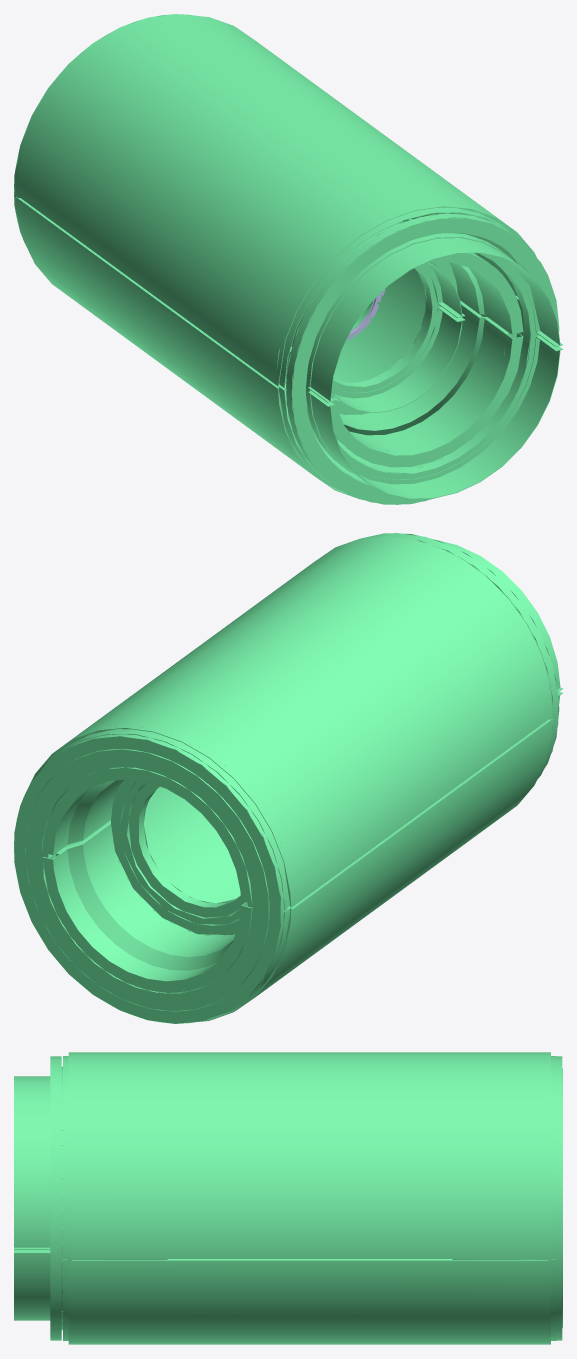
The model's file is its.glb.
3 views of the same model, one above another, from view 1: azimuth 30°, elevation 25°; view 2: azimuth 150°, elevation 25°; view 3: azimuth 270°, elevation 25° (orthographic). The views are drawn at different scales.
Visible parts, largest first — view 1: OBCYSS12_1.001, OBCYSS12_2.001, OBCYSS13_1.001, OBConeSideA_2.001, OBEndWheelAOuterRing6_1.001, OBConeTray1_1.001, OBConeTray1_2.001, OBCYSS14_2.001, Mesh_0, OBConeTray0_1.001, OBConeSideA_1.001, OBEndWheelAOuterRing5_1.001 (+7 smaller); view 2: OBCYSS12_1.001, Mesh_0, OBCYSS12_2.001, OBConeSideC_2.001, OBCYSS13_1.001, OBCYSS14_2.001, OBConeSideC_1.001, OBCYSS14_1.001, OBEndWheelAUpperRing6_1.001, OBEndWheelCUpperRing6_1.001, OBConeTray1_2.001, OBCYSS13_2.001 (+1 smaller); view 3: OBCYSS12_1.001, OBCYSS12_2.001, OBCYSS13_2.001, OBCYSS13_1.001, OBConeTray1_2.001, OBEndWheelAUpperRing6_1.001, OBConeTray1_1.001, OBCYSS14_1.001, OBCYSS14_2.001, OBEndWheelCUpperRing6_1.001, OBCYSS20_3.001, Mesh_0.
Boxes of the visible parts, <box> form: OBCYSS12_1.001: <box>16,14,535,386</box>; OBCYSS12_2.001: <box>16,197,355,497</box>; OBCYSS13_1.001: <box>23,18,522,373</box>; OBConeSideA_2.001: <box>285,304,523,467</box>; OBEndWheelAOuterRing6_1.001: <box>291,218,559,504</box>; OBConeTray1_1.001: <box>311,337,560,499</box>; OBConeTray1_2.001: <box>310,238,560,401</box>; OBCYSS14_2.001: <box>16,195,523,485</box>; Mesh_0: <box>14,14,530,485</box>; OBConeTray0_1.001: <box>332,308,462,412</box>; OBConeSideA_1.001: <box>291,221,523,346</box>; OBEndWheelAOuterRing5_1.001: <box>309,236,539,479</box>; OBCYSS12_1.001: <box>23,536,552,907</box>; Mesh_0: <box>14,736,287,1023</box>; OBCYSS12_2.001: <box>199,718,552,1021</box>; OBConeSideC_2.001: <box>42,824,252,992</box>; OBCYSS13_1.001: <box>44,539,548,874</box>; OBCYSS14_2.001: <box>49,716,553,1007</box>; OBConeSideC_1.001: <box>42,767,252,903</box>; OBCYSS14_1.001: <box>42,538,553,909</box>; OBEndWheelAUpperRing6_1.001: <box>363,533,558,779</box>; OBEndWheelCUpperRing6_1.001: <box>61,734,286,996</box>; OBConeTray1_2.001: <box>441,541,560,689</box>; OBCYSS13_2.001: <box>226,750,545,1012</box>; OBCYSS12_1.001: <box>68,1052,550,1258</box>; OBCYSS12_2.001: <box>68,1261,550,1344</box>; OBCYSS13_2.001: <box>75,1269,544,1343</box>; OBCYSS13_1.001: <box>75,1054,544,1231</box>; OBConeTray1_2.001: <box>14,1076,50,1247</box>; OBEndWheelAUpperRing6_1.001: <box>51,1056,60,1340</box>; OBConeTray1_1.001: <box>14,1253,50,1320</box>; OBCYSS14_1.001: <box>63,1056,556,1257</box>; OBCYSS14_2.001: <box>63,1259,556,1340</box>; OBEndWheelCUpperRing6_1.001: <box>552,1056,561,1340</box>; OBCYSS20_3.001: <box>72,1260,547,1261</box>; Mesh_0: <box>551,1056,562,1340</box>.
Size of the model in its own units: 92.2 by 92.2 by 173.
